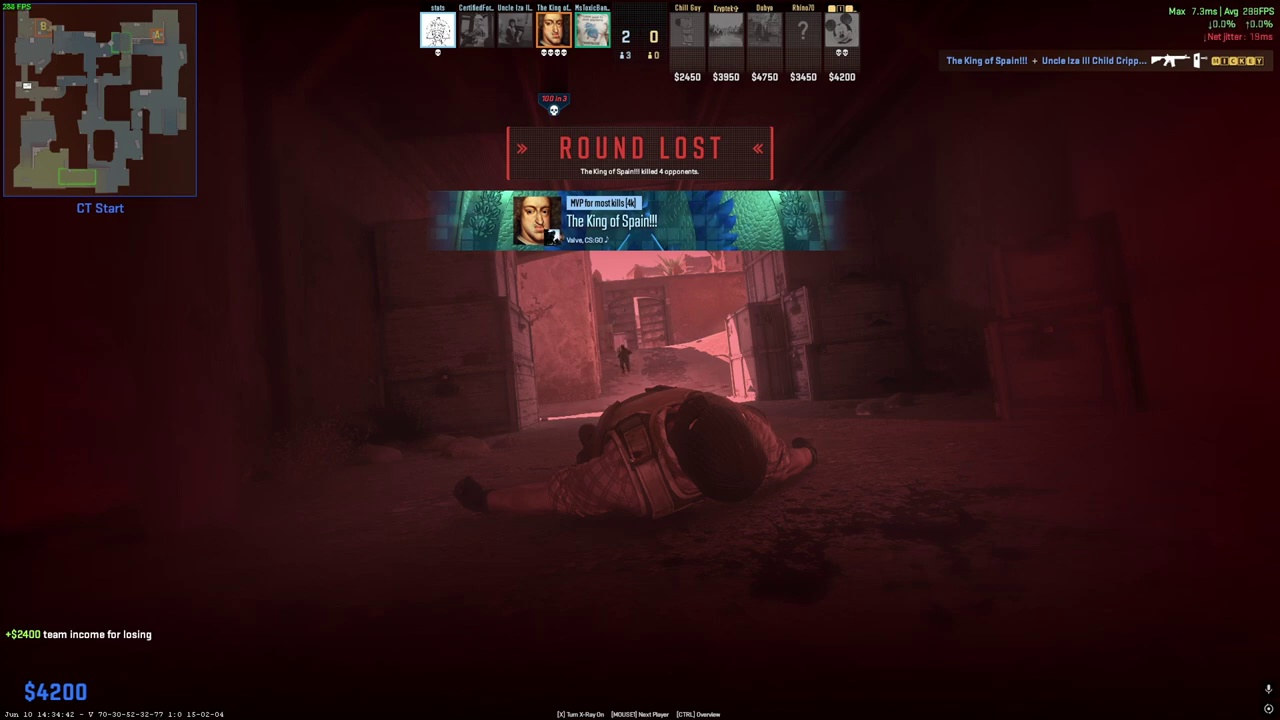CT: (618, 344, 632, 374)
